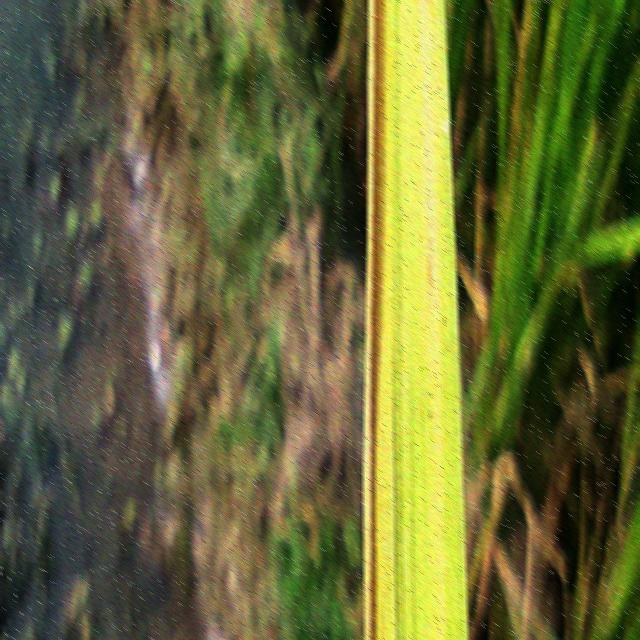BLB: (363, 0, 386, 640)
